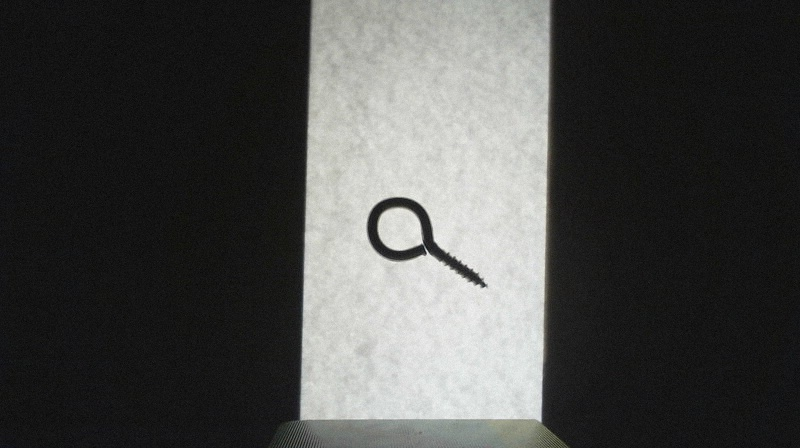O001: (361, 193, 490, 291)
